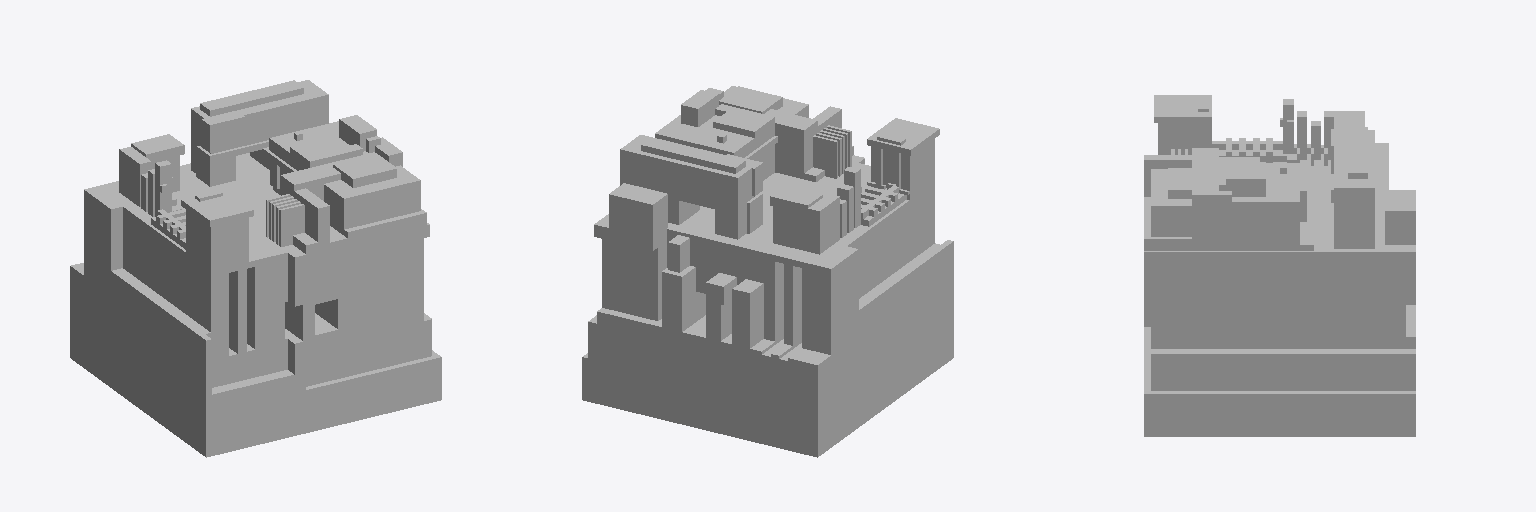
Rendered from memeverselanding.obj.
The picture shows the model from 3 angles: view 1: azimuth 30°, elevation 25°; view 2: azimuth 150°, elevation 25°; view 3: azimuth 270°, elevation 25°; orthographic projection.
Size of the model in its own units: 80 by 80 by 80.